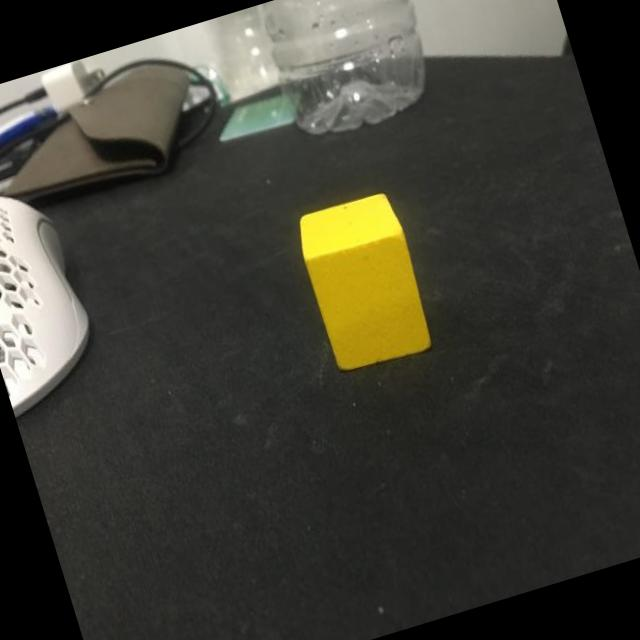yellow: (291, 188, 439, 374)
